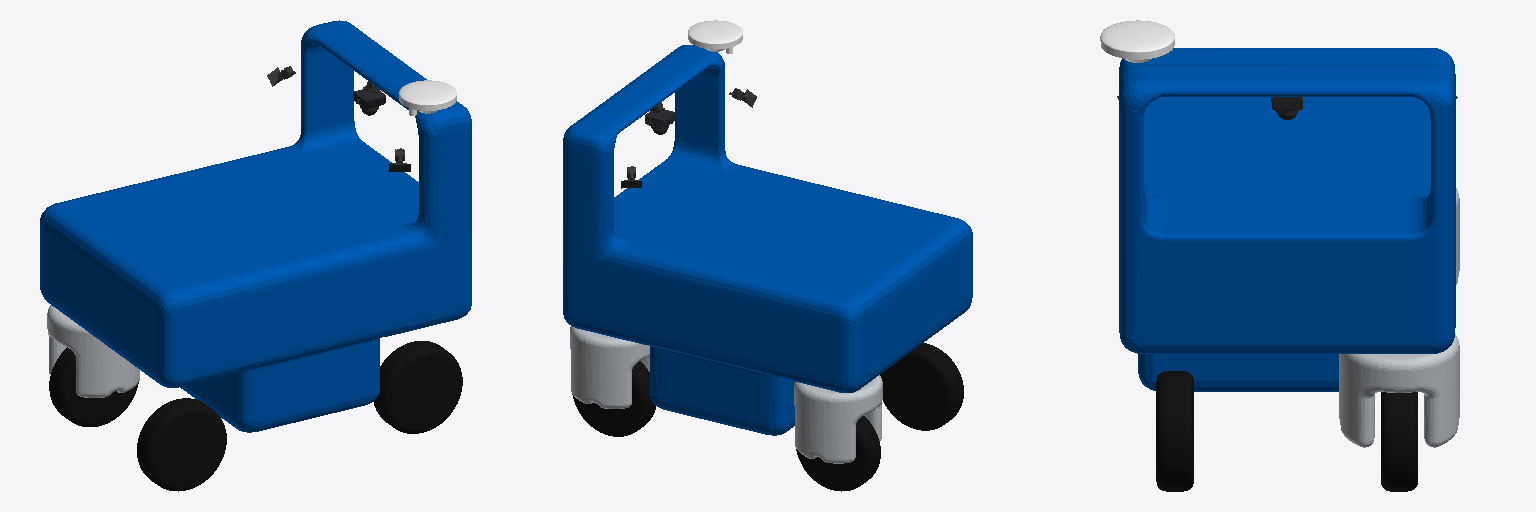
URDF robot description (karr):
<?xml version="1.0" encoding="utf-8"?>
<!-- K.A.R.R. robot description. GENERATED by urdf_prep/tools/convert_sw_export.py from the SolidWorks
     sw_urdf_exporter output (karr_description_ros1). Do not edit by hand: change the script and re-run it. -->
<robot name="karr">
  <material name="body_blue">
    <color rgba="0 0.3686 0.7216 0.5" />
  </material>
  <material name="aluminum">
    <color rgba="0.78 0.80 0.82 1" />
  </material>
  <material name="rubber">
    <color rgba="0.10 0.10 0.10 1" />
  </material>
  <material name="gps_white">
    <color rgba="0.95 0.95 0.95 1" />
  </material>
  <material name="lidar_grey">
    <color rgba="0.20 0.20 0.22 1" />
  </material>
  <material name="camera_grey">
    <color rgba="0.25 0.25 0.25 1" />
  </material>
  <link name="base_footprint" />
  <joint name="base_footprint_joint" type="fixed">
    <origin xyz="0 0 0" rpy="0 0 0" />
    <parent link="base_footprint" />
    <child link="base_link" />
  </joint>
  <link name="base_link">
    <inertial>
      <origin xyz="0.011368 2.2931E-06 0.43149" rpy="0 0 0" />
      <mass value="66.835" />
      <inertia ixx="9.1564" ixy="-0.000139003" ixz="-0.674165" iyy="13.0074" iyz="-9.40703e-05" izz="15.8472" />
    </inertial>
    <visual>
      <origin xyz="0 0 0" rpy="0 0 0" />
      <geometry>
        <mesh filename="package://karr_description/meshes/base_link.STL" />
      </geometry>
      <material name="body_blue" />
    </visual>
    <collision>
      <origin xyz="0 0 0.59955" rpy="0 0 0" />
      <geometry>
        <box size="0.9906 0.7874 0.9345" />
      </geometry>
    </collision>
  </link>
  <link name="fl_steering_link">
    <inertial>
      <origin xyz="1.4884E-07 2.3073E-07 -0.084288" rpy="0 0 0" />
      <mass value="4" />
      <inertia ixx="0.0346021" ixy="-5.18073e-07" ixz="1.47915e-08" iyy="0.0261754" iyz="3.70309e-08" izz="0.0328314" />
    </inertial>
    <visual>
      <origin xyz="0 0 0" rpy="0 0 0" />
      <geometry>
        <mesh filename="package://karr_description/meshes/fl_steering_link.STL" />
      </geometry>
      <material name="aluminum" />
    </visual>
  </link>
  <joint name="fl_steering" type="revolute">
    <origin xyz="0.3556 0.2286 0.3345" rpy="0 0 0" />
    <parent link="base_link" />
    <child link="fl_steering_link" />
    <axis xyz="0 0 1" />
    <limit lower="-2.8798" upper="2.8798" effort="17" velocity="1.5" />
    <dynamics damping="0.1" friction="1" />
  </joint>
  <link name="fl_wheel_link">
    <inertial>
      <origin xyz="0 0 0" rpy="0 0 0" />
      <mass value="4" />
      <inertia ixx="0.0163694" ixy="-1.40341e-19" ixz="-1.06708e-19" iyy="0.0163694" iyz="-1.48052e-19" izz="0.029062" />
    </inertial>
    <visual>
      <origin xyz="0 0 0" rpy="0 0 0" />
      <geometry>
        <mesh filename="package://karr_description/meshes/fl_wheel_link.STL" />
      </geometry>
      <material name="rubber" />
    </visual>
    <collision>
      <origin xyz="0 0 0" rpy="0 0 0" />
      <geometry>
        <cylinder radius="0.1225" length="0.0762" />
      </geometry>
    </collision>
  </link>
  <joint name="fl_wheel" type="continuous">
    <origin xyz="0 0 -0.212" rpy="-1.5708 0 0" />
    <parent link="fl_steering_link" />
    <child link="fl_wheel_link" />
    <axis xyz="0 0 1" />
    <limit effort="30" velocity="21.9" />
    <dynamics damping="0.1" friction="1" />
  </joint>
  <link name="fr_steering_link">
    <inertial>
      <origin xyz="-1.4884E-07 -2.3073E-07 -0.084288" rpy="0 0 0" />
      <mass value="4" />
      <inertia ixx="0.0346021" ixy="-5.18073e-07" ixz="-1.47915e-08" iyy="0.0261754" iyz="-3.70309e-08" izz="0.0328314" />
    </inertial>
    <visual>
      <origin xyz="0 0 0" rpy="0 0 0" />
      <geometry>
        <mesh filename="package://karr_description/meshes/fr_steering_link.STL" />
      </geometry>
      <material name="aluminum" />
    </visual>
  </link>
  <joint name="fr_steering" type="revolute">
    <origin xyz="0.3556 -0.2286 0.3345" rpy="0 0 0" />
    <parent link="base_link" />
    <child link="fr_steering_link" />
    <axis xyz="0 0 1" />
    <limit lower="-2.8798" upper="2.8798" effort="17" velocity="1.5" />
    <dynamics damping="0.1" friction="1" />
  </joint>
  <link name="fr_wheel_link">
    <inertial>
      <origin xyz="0 0 0" rpy="0 0 0" />
      <mass value="4" />
      <inertia ixx="0.0163694" ixy="-1.77281e-32" ixz="-1.34384e-17" iyy="0.0163694" iyz="7.72063e-19" izz="0.029062" />
    </inertial>
    <visual>
      <origin xyz="0 0 0" rpy="0 0 0" />
      <geometry>
        <mesh filename="package://karr_description/meshes/fr_wheel_link.STL" />
      </geometry>
      <material name="rubber" />
    </visual>
    <collision>
      <origin xyz="0 0 0" rpy="0 0 0" />
      <geometry>
        <cylinder radius="0.1225" length="0.0762" />
      </geometry>
    </collision>
  </link>
  <joint name="fr_wheel" type="continuous">
    <origin xyz="0 0 -0.212" rpy="-1.5708 0 0" />
    <parent link="fr_steering_link" />
    <child link="fr_wheel_link" />
    <axis xyz="0 0 1" />
    <limit effort="30" velocity="21.9" />
    <dynamics damping="0.1" friction="1" />
  </joint>
  <link name="bl_steering_link">
    <inertial>
      <origin xyz="-1.48841857172677E-07 -2.30726016708926E-07 -0.0842876754537782" rpy="0 0 0" />
      <mass value="4" />
      <inertia ixx="0.0346021" ixy="-5.18078e-07" ixz="-1.47913e-08" iyy="0.0261757" iyz="-3.7031e-08" izz="0.0328314" />
    </inertial>
    <visual>
      <origin xyz="0 0 0" rpy="0 0 0" />
      <geometry>
        <mesh filename="package://karr_description/meshes/bl_steering_link.STL" />
      </geometry>
      <material name="aluminum" />
    </visual>
  </link>
  <joint name="bl_steering" type="revolute">
    <origin xyz="-0.3556 0.2286 0.3345" rpy="0 0 0" />
    <parent link="base_link" />
    <child link="bl_steering_link" />
    <axis xyz="0 0 1" />
    <limit lower="-2.8798" upper="2.8798" effort="17" velocity="1.5" />
    <dynamics damping="0.1" friction="1" />
  </joint>
  <link name="bl_wheel_link">
    <inertial>
      <origin xyz="0 0 0" rpy="0 0 0" />
      <mass value="4" />
      <inertia ixx="0.0163694" ixy="-7.63475e-20" ixz="3.3032e-19" iyy="0.0163694" iyz="1.82211e-19" izz="0.029062" />
    </inertial>
    <visual>
      <origin xyz="0 0 0" rpy="0 0 0" />
      <geometry>
        <mesh filename="package://karr_description/meshes/bl_wheel_link.STL" />
      </geometry>
      <material name="rubber" />
    </visual>
    <collision>
      <origin xyz="0 0 0" rpy="0 0 0" />
      <geometry>
        <cylinder radius="0.1225" length="0.0762" />
      </geometry>
    </collision>
  </link>
  <joint name="bl_wheel" type="continuous">
    <origin xyz="0 0 -0.212" rpy="-1.5708 0 0" />
    <parent link="bl_steering_link" />
    <child link="bl_wheel_link" />
    <axis xyz="0 0 1" />
    <limit effort="30" velocity="21.9" />
    <dynamics damping="0.1" friction="1" />
  </joint>
  <link name="br_steering_link">
    <inertial>
      <origin xyz="-1.4884E-07 -2.3073E-07 -0.084288" rpy="0 0 0" />
      <mass value="4" />
      <inertia ixx="0.0346021" ixy="-5.18073e-07" ixz="-1.47915e-08" iyy="0.0261754" iyz="-3.70309e-08" izz="0.0328314" />
    </inertial>
    <visual>
      <origin xyz="0 0 0" rpy="0 0 0" />
      <geometry>
        <mesh filename="package://karr_description/meshes/br_steering_link.STL" />
      </geometry>
      <material name="aluminum" />
    </visual>
  </link>
  <joint name="br_steering" type="revolute">
    <origin xyz="-0.3556 -0.2286 0.3345" rpy="0 0 0" />
    <parent link="base_link" />
    <child link="br_steering_link" />
    <axis xyz="0 0 1" />
    <limit lower="-2.8798" upper="2.8798" effort="17" velocity="1.5" />
    <dynamics damping="0.1" friction="1" />
  </joint>
  <link name="br_wheel_link">
    <inertial>
      <origin xyz="0 0 2.7756E-17" rpy="0 0 0" />
      <mass value="4" />
      <inertia ixx="0.0163694" ixy="-9.54343e-21" ixz="3.51007e-19" iyy="0.0163694" iyz="-2.42263e-20" izz="0.029062" />
    </inertial>
    <visual>
      <origin xyz="0 0 0" rpy="0 0 0" />
      <geometry>
        <mesh filename="package://karr_description/meshes/br_wheel_link.STL" />
      </geometry>
      <material name="rubber" />
    </visual>
    <collision>
      <origin xyz="0 0 0" rpy="0 0 0" />
      <geometry>
        <cylinder radius="0.1225" length="0.0762" />
      </geometry>
    </collision>
  </link>
  <joint name="br_wheel" type="continuous">
    <origin xyz="0 0 -0.212" rpy="-1.5708 0 0" />
    <parent link="br_steering_link" />
    <child link="br_wheel_link" />
    <axis xyz="0 0 1" />
    <limit effort="30" velocity="21.9" />
    <dynamics damping="0.1" friction="1" />
  </joint>
  <link name="left_gps_link">
    <inertial>
      <origin xyz="-5.3449E-05 0 -0.016676" rpy="0 0 0" />
      <mass value="0.3" />
      <inertia ixx="0.000355376" ixy="-8.48159e-11" ixz="-2.27781e-06" iyy="0.00036456" iyz="-5.31882e-12" izz="0.000618436" />
    </inertial>
    <visual>
      <origin xyz="0 0 0" rpy="0 0 0" />
      <geometry>
        <mesh filename="package://karr_description/meshes/left_gps_link.STL" />
      </geometry>
      <material name="gps_white" />
    </visual>
  </link>
  <joint name="left_gps" type="fixed">
    <origin xyz="0.3429 0.3048 1.0038" rpy="0 0 0" />
    <parent link="base_link" />
    <child link="left_gps_link" />
  </joint>
  <link name="right_gps_link">
    <inertial>
      <origin xyz="-5.3449E-05 0 -0.016676" rpy="0 0 0" />
      <mass value="0.3" />
      <inertia ixx="0.000355376" ixy="-8.48159e-11" ixz="-2.27781e-06" iyy="0.00036456" iyz="-5.31882e-12" izz="0.000618436" />
    </inertial>
    <visual>
      <origin xyz="0 0 0" rpy="0 0 0" />
      <geometry>
        <mesh filename="package://karr_description/meshes/right_gps_link.STL" />
      </geometry>
      <material name="gps_white" />
    </visual>
  </link>
  <joint name="right_gps" type="fixed">
    <origin xyz="0.3429 -0.3048 1.0038" rpy="0 0 0" />
    <parent link="base_link" />
    <child link="right_gps_link" />
  </joint>
  <link name="livox_base_link">
    <inertial>
      <origin xyz="-0.0001997 -6.1721E-06 0.022032" rpy="0 0 0" />
      <mass value="0.265" />
      <inertia ixx="7.80619e-05" ixy="-1.04999e-08" ixz="5.70584e-07" iyy="8.41878e-05" iyz="-1.22321e-09" izz="0.000128492" />
    </inertial>
    <visual>
      <origin xyz="0 0 0" rpy="0 0 0" />
      <geometry>
        <mesh filename="package://karr_description/meshes/livox_base_link.STL" />
      </geometry>
      <material name="lidar_grey" />
    </visual>
  </link>
  <joint name="livox_base" type="fixed">
    <origin xyz="0.3429 0 0.8797" rpy="3.1416 0 0" />
    <parent link="base_link" />
    <child link="livox_base_link" />
  </joint>
  <link name="left_zed_camera_link">
    <inertial>
      <origin xyz="-0.0052 0 0.0125" rpy="0 0 0" />
      <mass value="0.1" />
      <inertia ixx="1.04167e-05" ixy="0" ixz="0" iyy="1.72417e-05" iyz="0" izz="1.72417e-05" />
    </inertial>
    <visual>
      <origin xyz="0 0 0" rpy="0 0 0" />
      <geometry>
        <mesh filename="package://karr_description/meshes/left_zedxones_link.STL" />
      </geometry>
      <material name="camera_grey" />
    </visual>
  </link>
  <joint name="left_zed_camera_joint" type="fixed">
    <origin xyz="0.26708 0.28843 0.82828" rpy="0 0.5236 2.0944" />
    <parent link="base_link" />
    <child link="left_zed_camera_link" />
  </joint>
  <link name="center_zed_camera_link">
    <inertial>
      <origin xyz="-0.0052 0 0.0125" rpy="0 0 0" />
      <mass value="0.1" />
      <inertia ixx="1.04167e-05" ixy="0" ixz="0" iyy="1.72417e-05" iyz="0" izz="1.72417e-05" />
    </inertial>
    <visual>
      <origin xyz="0 0 0" rpy="0 0 0" />
      <geometry>
        <mesh filename="package://karr_description/meshes/center_zedxones_link.STL" />
      </geometry>
      <material name="camera_grey" />
    </visual>
  </link>
  <joint name="center_zed_camera_joint" type="fixed">
    <origin xyz="0.34893 0 0.8854" rpy="0 0.2618 0" />
    <parent link="base_link" />
    <child link="center_zed_camera_link" />
  </joint>
  <link name="right_zed_camera_link">
    <inertial>
      <origin xyz="-0.0052 0 0.0125" rpy="0 0 0" />
      <mass value="0.1" />
      <inertia ixx="1.04167e-05" ixy="0" ixz="0" iyy="1.72417e-05" iyz="0" izz="1.72417e-05" />
    </inertial>
    <visual>
      <origin xyz="0 0 0" rpy="0 0 0" />
      <geometry>
        <mesh filename="package://karr_description/meshes/right_zedxones_link.STL" />
      </geometry>
      <material name="camera_grey" />
    </visual>
  </link>
  <joint name="right_zed_camera_joint" type="fixed">
    <origin xyz="0.267084982524774 -0.288430235963189 0.8282794192948" rpy="0 0.5235987755983 -2.0943951023932" />
    <parent link="base_link" />
    <child link="right_zed_camera_link" />
  </joint>
  <link name="livox_frame" />
  <joint name="livox_frame_joint" type="fixed">
    <origin xyz="0 0 0.047" rpy="0 0 0" />
    <parent link="livox_base_link" />
    <child link="livox_frame" />
  </joint>
  <link name="livox_imu_link" />
  <joint name="livox_imu_joint" type="fixed">
    <origin xyz="0.011 0.02329 -0.04412" rpy="0 0 0" />
    <parent link="livox_frame" />
    <child link="livox_imu_link" />
  </joint>
</robot>

--- Facts derived from the render (not from the file) ---
The picture shows the robot from 3 angles, left to right: view 1: azimuth 30°, elevation 25°; view 2: azimuth 150°, elevation 25°; view 3: azimuth 270°, elevation 25°; orthographic projection.
Model karr with 18 links and 17 joints (4 revolute, 4 continuous, 9 fixed), rooted at base_footprint, posed every joint at zero.
Visible links, largest first — view 1: base_link, br_wheel_link, fr_wheel_link, bl_steering_link, bl_wheel_link, right_gps_link, livox_base_link; view 2: base_link, bl_steering_link, br_wheel_link, fl_steering_link, bl_wheel_link, fl_wheel_link, right_gps_link, livox_base_link; view 3: base_link, fl_steering_link, fr_wheel_link, fl_wheel_link, right_gps_link.
Boxes of the visible links, bbox=[...] form: base_link: bbox=[40, 20, 471, 432]; br_wheel_link: bbox=[137, 398, 226, 491]; fr_wheel_link: bbox=[374, 341, 462, 433]; bl_steering_link: bbox=[47, 305, 139, 397]; bl_wheel_link: bbox=[49, 347, 138, 426]; right_gps_link: bbox=[399, 80, 456, 115]; livox_base_link: bbox=[353, 89, 385, 115]; base_link: bbox=[563, 45, 972, 435]; bl_steering_link: bbox=[794, 375, 882, 463]; br_wheel_link: bbox=[880, 343, 963, 430]; fl_steering_link: bbox=[570, 326, 649, 408]; bl_wheel_link: bbox=[796, 416, 880, 491]; fl_wheel_link: bbox=[572, 361, 655, 436]; right_gps_link: bbox=[688, 20, 742, 53]; livox_base_link: bbox=[645, 110, 675, 134]; base_link: bbox=[1119, 48, 1455, 391]; fl_steering_link: bbox=[1339, 334, 1459, 447]; fr_wheel_link: bbox=[1156, 371, 1193, 491]; fl_wheel_link: bbox=[1381, 392, 1417, 491]; right_gps_link: bbox=[1100, 20, 1174, 62].
Size in the robot's own frame: 0.9562 by 0.7319 by 1.01 metres.
Meshes: 15 distinct files referenced, 12 mesh visuals loaded (12 binary STL); not drawn: 3 (reference not matched to a file when rendering).
